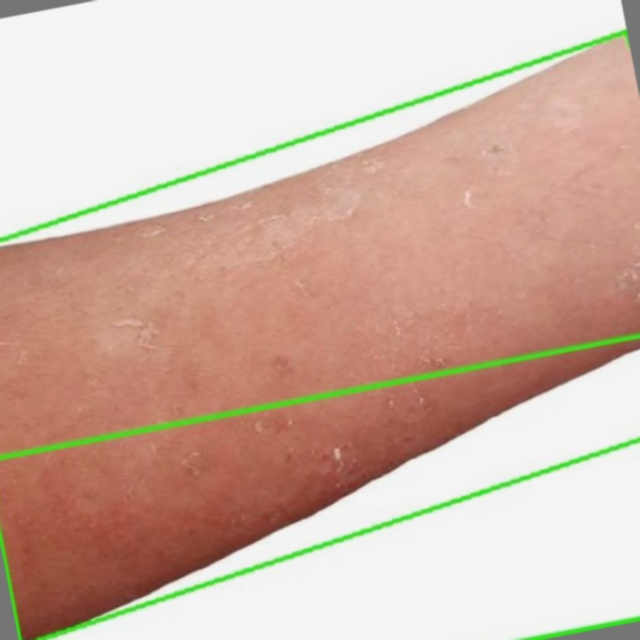Tinea Corporis: (0, 32, 639, 639), (0, 337, 639, 639)
